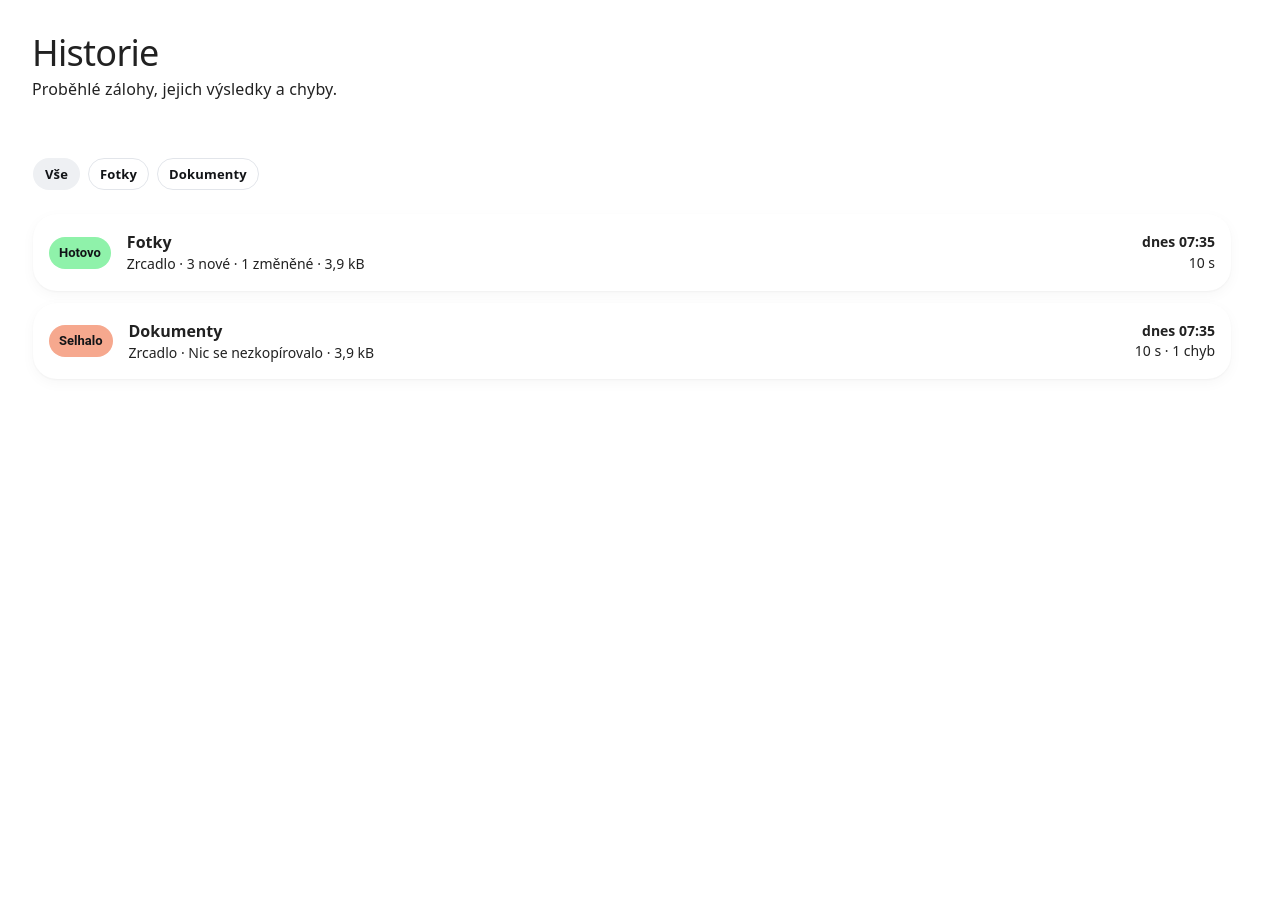
it: HistoryPage › opens the error detail
This screenshot has width=1280, height=900.
Click the button with aria-label "Dokumenty, Selhalo". click: (81, 341)
box: 33,303 -> 1231,379
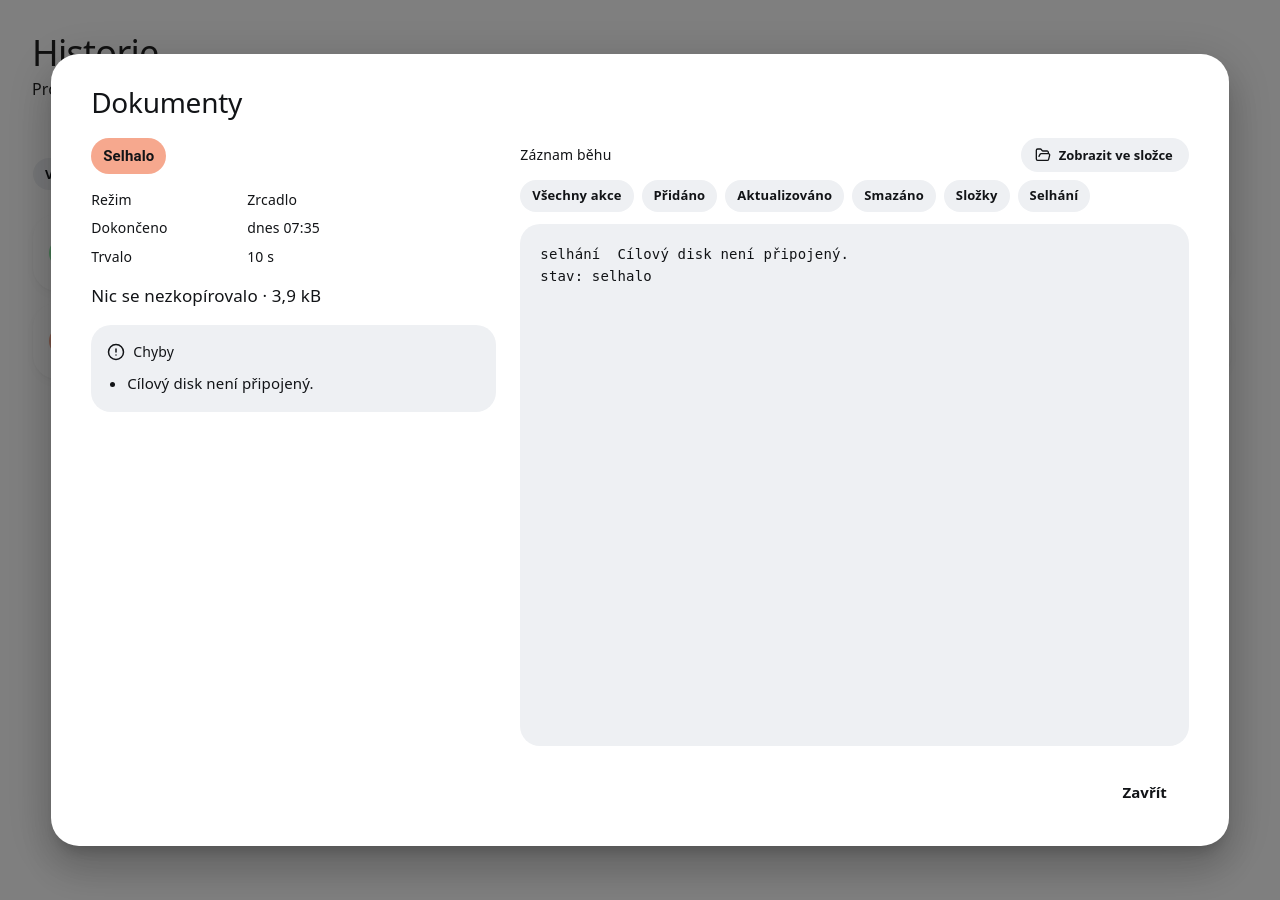
Now the list item "Cílový disk není připojený." is shown, box 127,372 -> 314,392
Now the text named "Záznam běhu" shows "stav: selhalo", box 540,246 -> 849,284
